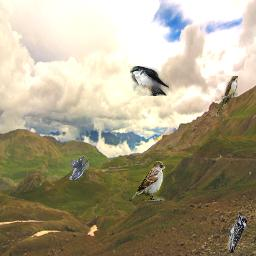Cuckoo: (215, 76, 238, 116)
Sparrow: (129, 161, 166, 201)
Swallow: (130, 66, 169, 96), (69, 154, 89, 180)
Woodpecker: (224, 213, 247, 253)
